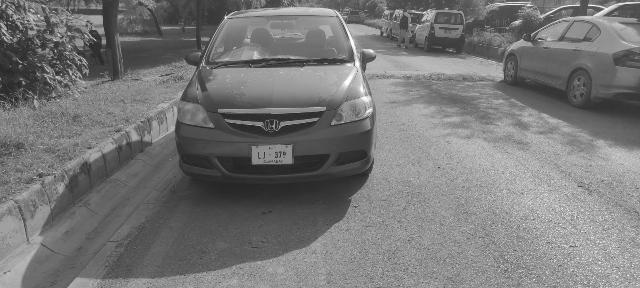Number: (257, 151, 287, 159)
